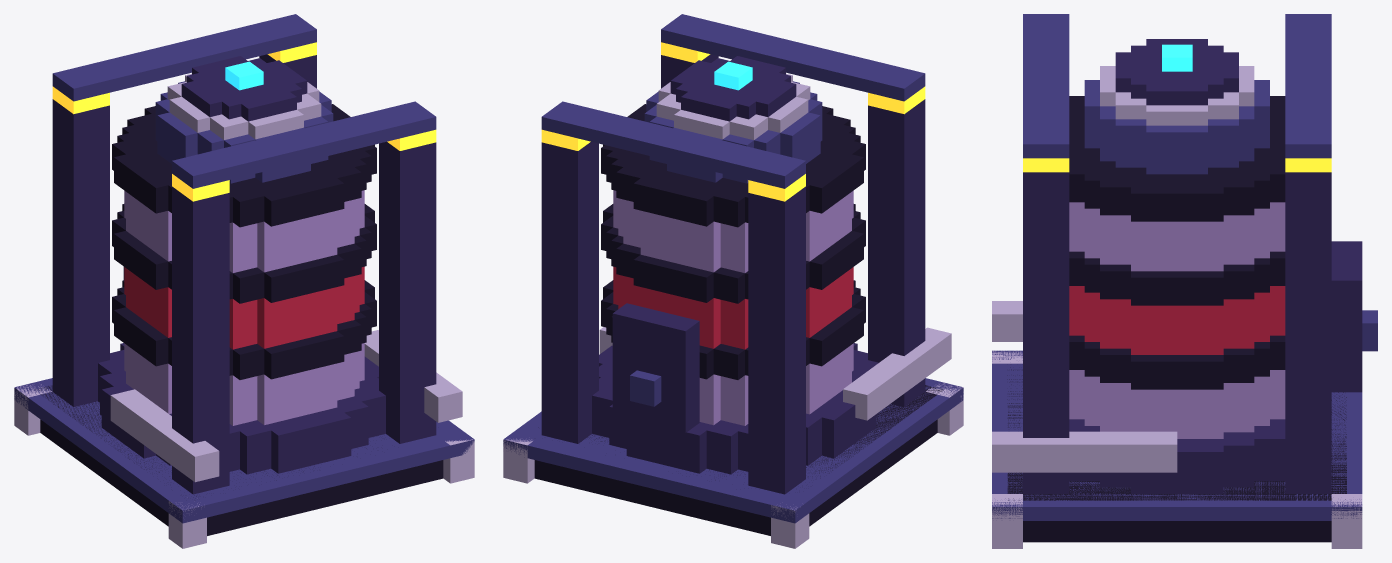
File: reactor.sm.glb
3 renders of one model, left to right at view 1: azimuth 30°, elevation 25°; view 2: azimuth 150°, elevation 25°; view 3: azimuth 270°, elevation 25°, orthographic. The views are drawn at different scales.
Visible parts, largest first — view 1: reactor.sm; view 2: reactor.sm; view 3: reactor.sm.
Part boxes in pixels (<box>): reactor.sm: <box>14,14,474,548</box>; reactor.sm: <box>503,14,963,548</box>; reactor.sm: <box>992,14,1377,548</box>.
Bounding box in the file's own units: 1.5 × 1.88 × 1.56.
